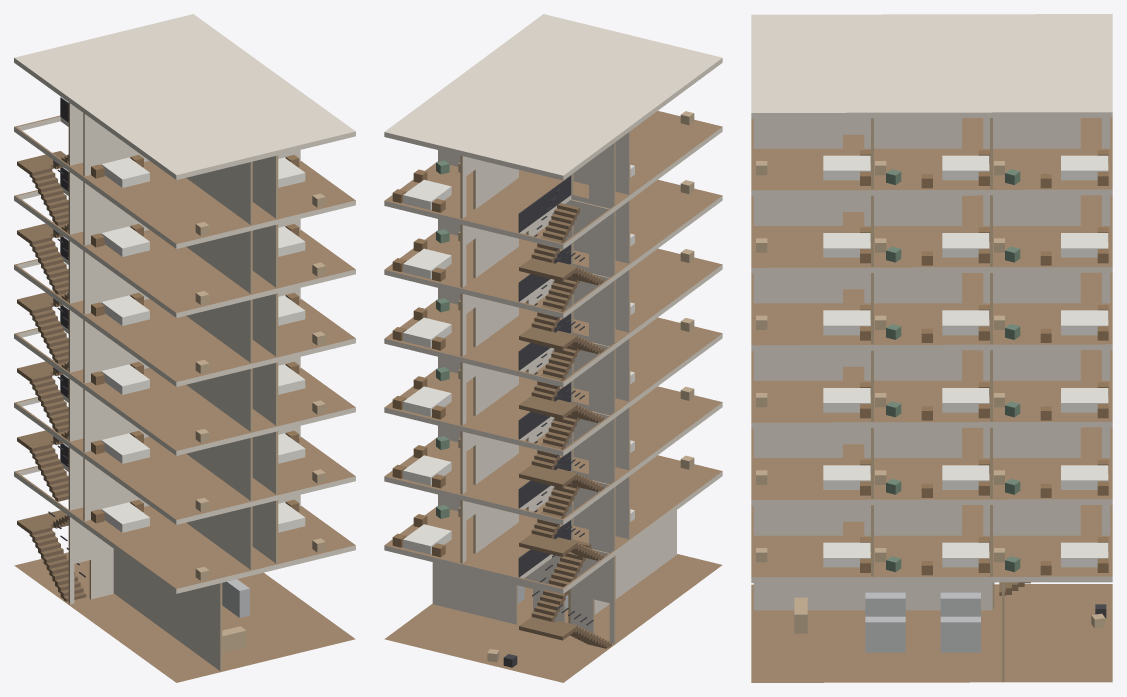
File: interior.glb
3 views of the same model, side by side, from view 1: azimuth 30°, elevation 25°; view 2: azimuth 150°, elevation 25°; view 3: azimuth 270°, elevation 25° (orthographic). The views are drawn at different scales.
Parts seen in each view (by area): view 1: slabs, partitions, stair, coarse-s1, coarse-s2, coarse-s5, coarse-s6, coarse-s4, coarse-s3, coarse-s0; view 2: slabs, partitions, stair, coarse-s4, coarse-s3, coarse-s5, coarse-s6, coarse-s1, coarse-s2, coarse-s0; view 3: slabs, partitions, coarse-s0, coarse-s6, coarse-s1, coarse-s4, coarse-s5, coarse-s3, coarse-s2.
Part boxes in pixels (bbox=[...]): slabs: bbox=[14, 14, 355, 682]; partitions: bbox=[68, 102, 300, 671]; stair: bbox=[17, 97, 86, 601]; coarse-s1: bbox=[91, 499, 325, 580]; coarse-s2: bbox=[91, 430, 325, 511]; coarse-s5: bbox=[91, 224, 325, 304]; coarse-s6: bbox=[91, 155, 325, 235]; coarse-s4: bbox=[91, 292, 325, 373]; coarse-s3: bbox=[91, 361, 325, 442]; coarse-s0: bbox=[222, 579, 249, 652]; slabs: bbox=[384, 14, 722, 682]; partitions: bbox=[432, 131, 676, 643]; stair: bbox=[518, 176, 611, 648]; coarse-s4: bbox=[392, 249, 694, 350]; coarse-s3: bbox=[392, 318, 694, 419]; coarse-s5: bbox=[392, 180, 694, 281]; coarse-s6: bbox=[392, 111, 694, 212]; coarse-s1: bbox=[392, 455, 694, 557]; coarse-s2: bbox=[392, 386, 694, 488]; coarse-s0: bbox=[487, 585, 568, 667]; slabs: bbox=[751, 14, 1112, 682]; partitions: bbox=[753, 117, 1110, 681]; coarse-s0: bbox=[794, 592, 1106, 652]; coarse-s6: bbox=[756, 150, 1108, 188]; coarse-s1: bbox=[756, 537, 1108, 575]; coarse-s4: bbox=[756, 305, 1108, 342]; coarse-s5: bbox=[756, 227, 1108, 265]; coarse-s3: bbox=[756, 382, 1108, 420]; coarse-s2: bbox=[756, 459, 1108, 497].
Size of the model in its own units: 9.94 by 26.68 by 15.32.
